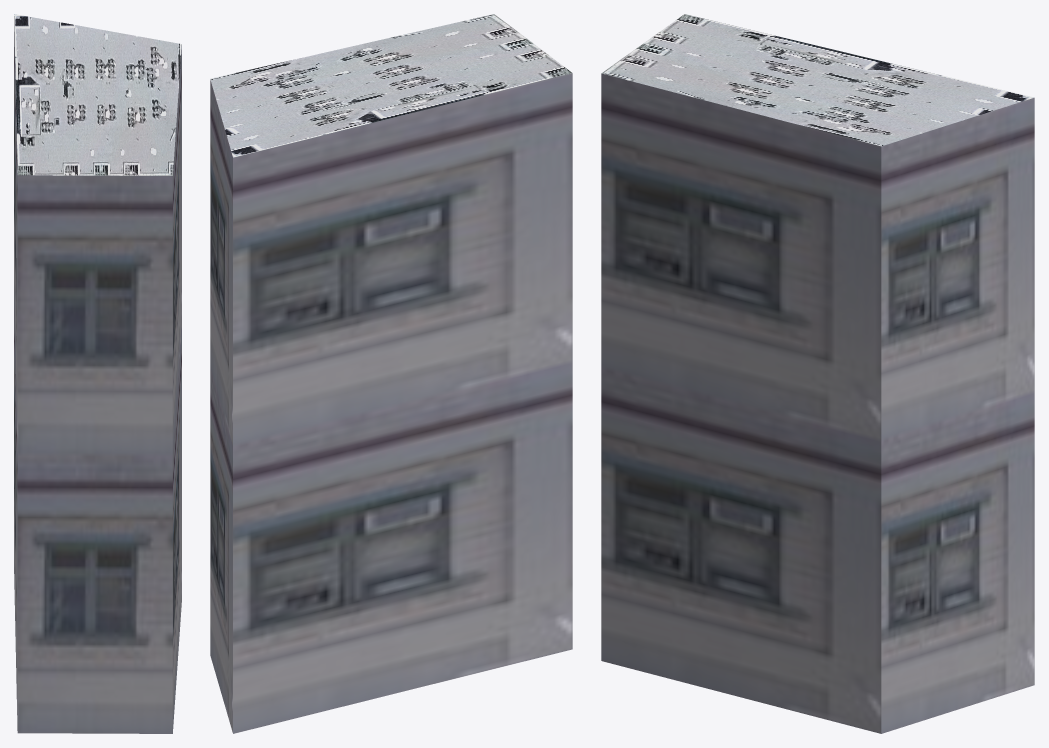
File: ResTex__3381.fbx
The picture shows the model from 3 angles, left to right: view 1: azimuth 30°, elevation 25°; view 2: azimuth 150°, elevation 25°; view 3: azimuth 270°, elevation 25°; orthographic projection. The views are drawn at different scales.
Visible parts, largest first — view 1: CityEngineMaterial_1_m, CityEngineMaterial_m; view 2: CityEngineMaterial_1_m, CityEngineMaterial_m; view 3: CityEngineMaterial_1_m, CityEngineMaterial_m.
Boxes of the visible parts, <box> form: CityEngineMaterial_1_m: <box>14,16,181,733</box>; CityEngineMaterial_m: <box>14,14,181,175</box>; CityEngineMaterial_1_m: <box>210,73,572,733</box>; CityEngineMaterial_m: <box>210,14,572,157</box>; CityEngineMaterial_1_m: <box>601,73,1034,733</box>; CityEngineMaterial_m: <box>601,14,1033,146</box>.
Bounding box in the file's own units: 2.9 × 6 × 4.01.
Materials: 2 (2 with a texture image).
